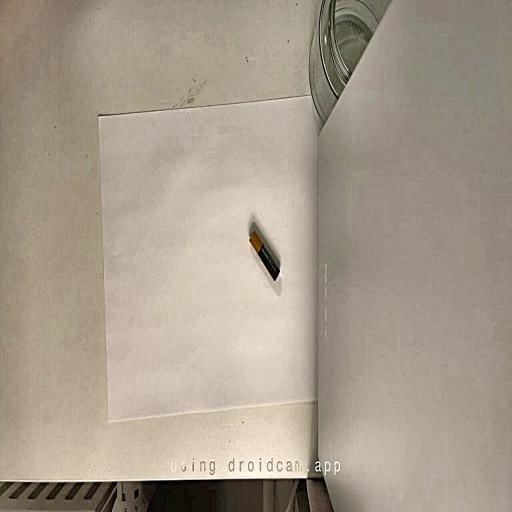DuracellAAA: (249, 230, 280, 281)
